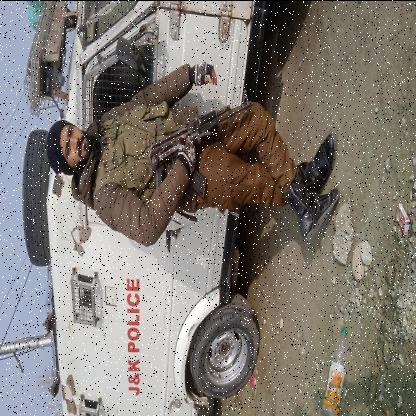rifle: (148, 86, 256, 200)
